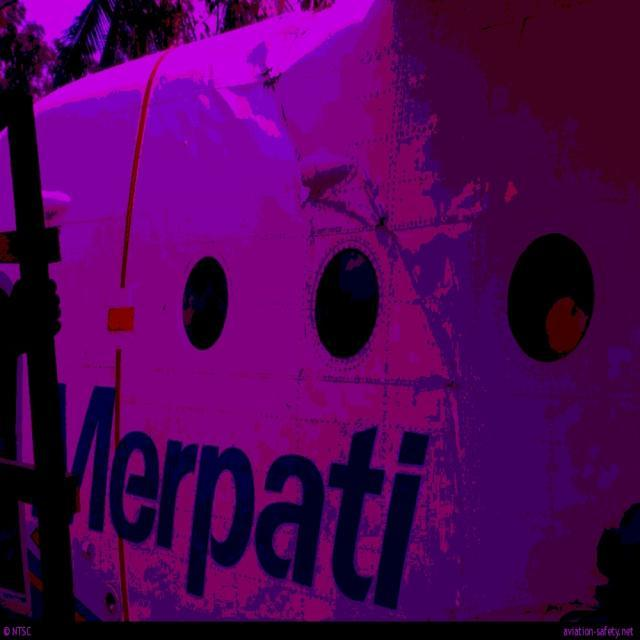crack: (261, 63, 293, 132), (377, 212, 400, 247)
